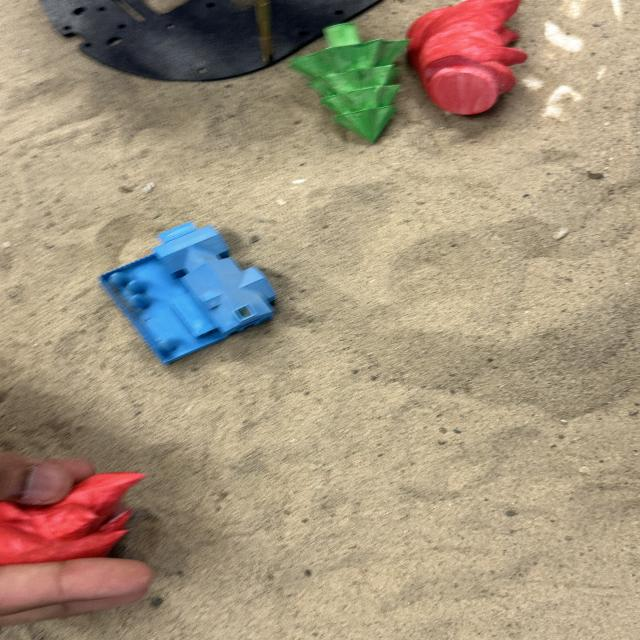fire: (407, 0, 529, 117), (0, 473, 131, 552)
house: (98, 220, 277, 366)
tree: (286, 22, 411, 141)
